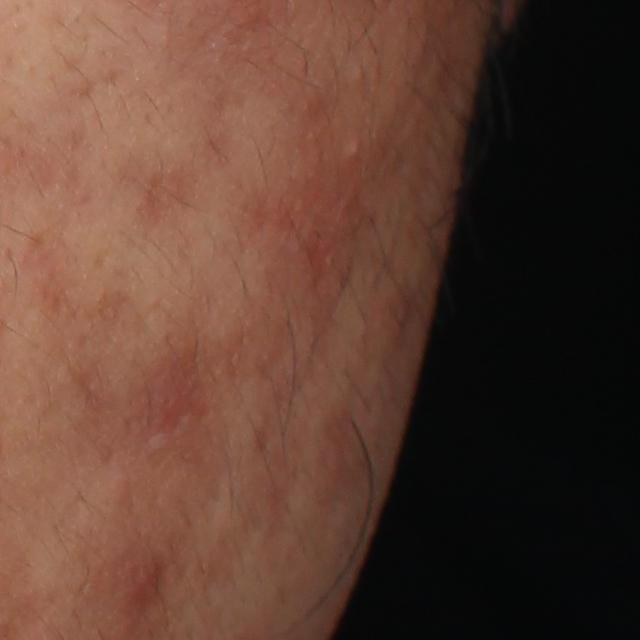comedo: (343, 130, 369, 156)
papule: (115, 550, 176, 610)
